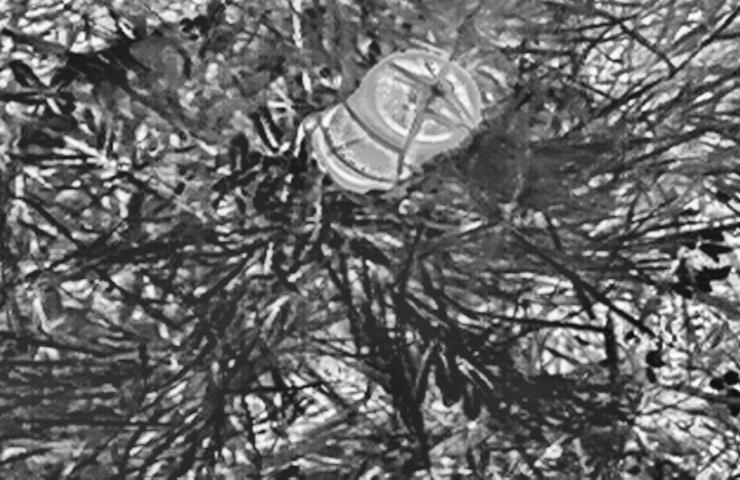landmines: (306, 42, 487, 199)
